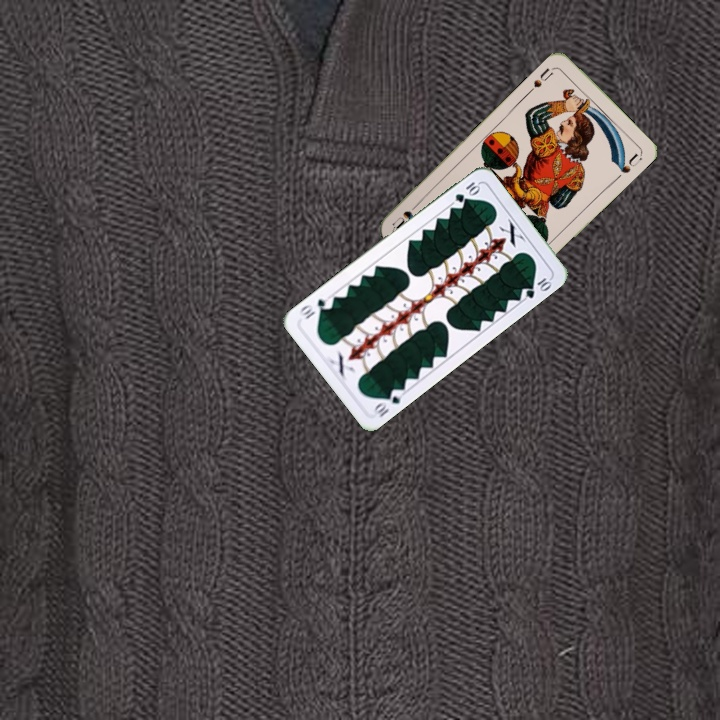G10: (370, 384, 404, 421), (451, 178, 483, 205)
SU: (525, 63, 558, 95)
